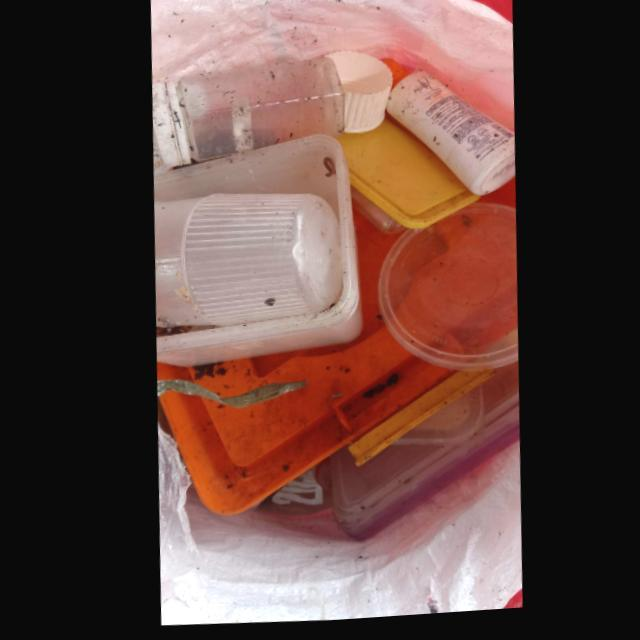plastic: (154, 205, 444, 519), (152, 139, 360, 369), (152, 196, 339, 329), (375, 209, 515, 378), (151, 62, 343, 169), (379, 63, 514, 202)
